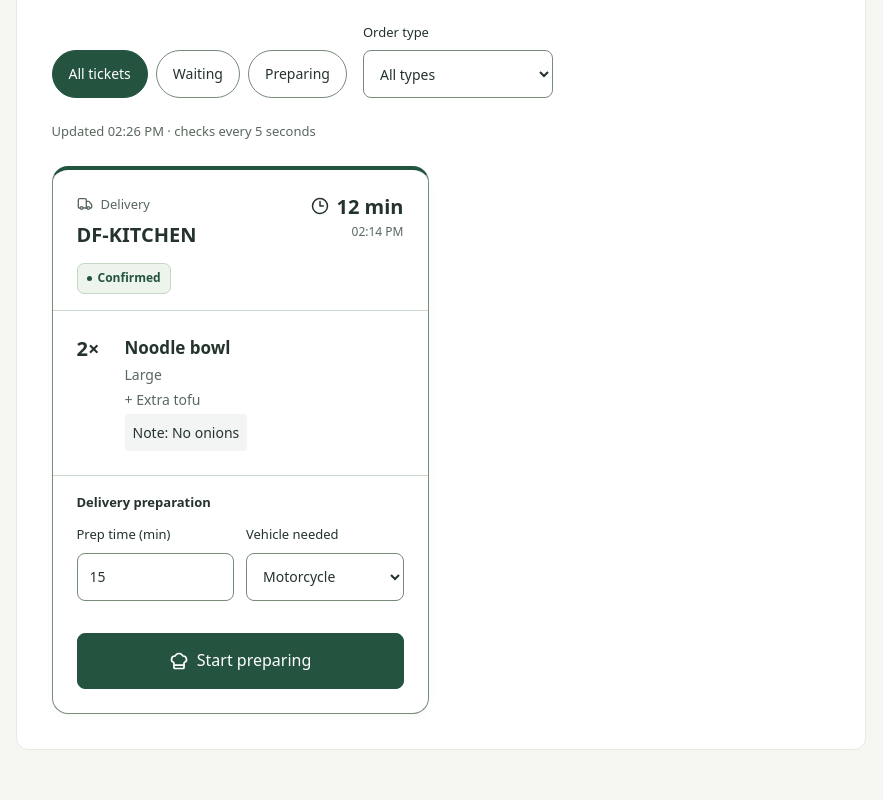
Test: keeps KDS preparation details and actions connected without exposing financial totals
(page scrolled)
Expected: the heading "DF-KITCHEN" is shown, [76,222,196,247]
Expected: the text "No onions" is shown, [172,423,239,442]
Replace the text in the number field named "Prep time for DF-KITCHEN" with "24" at {"x": 155, "y": 577}, box [76,553,234,601]
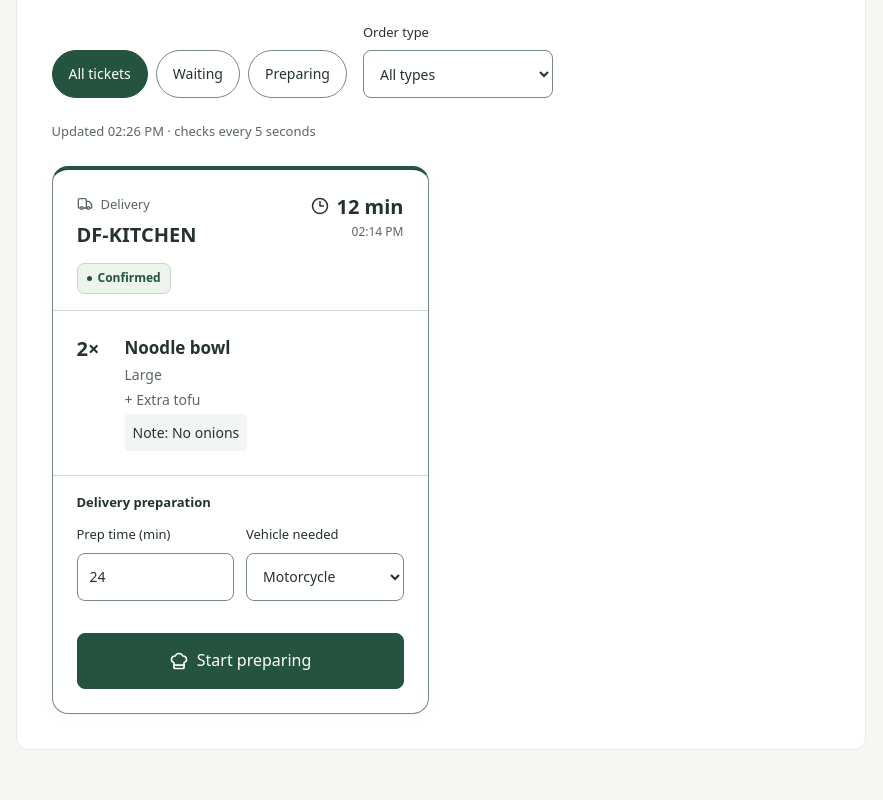
Select "Car" in the dropdown named "Vehicle needed for DF-KITCHEN" at {"x": 325, "y": 577}, box [246,553,404,601]
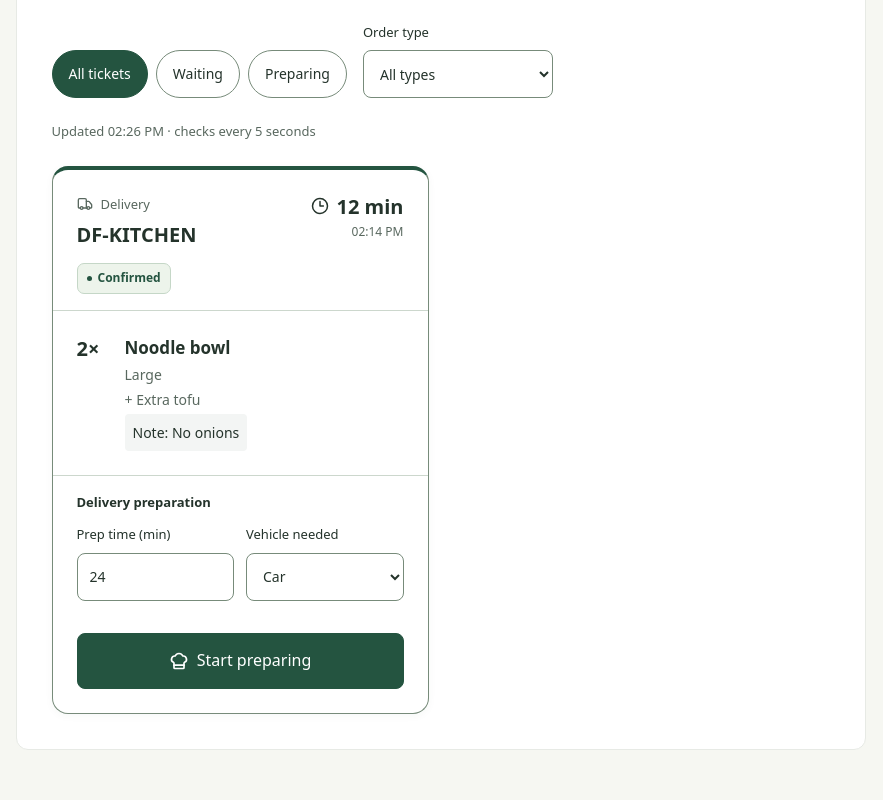
Click the button "Start preparing" at {"x": 240, "y": 661}, box [76,633,404,689]
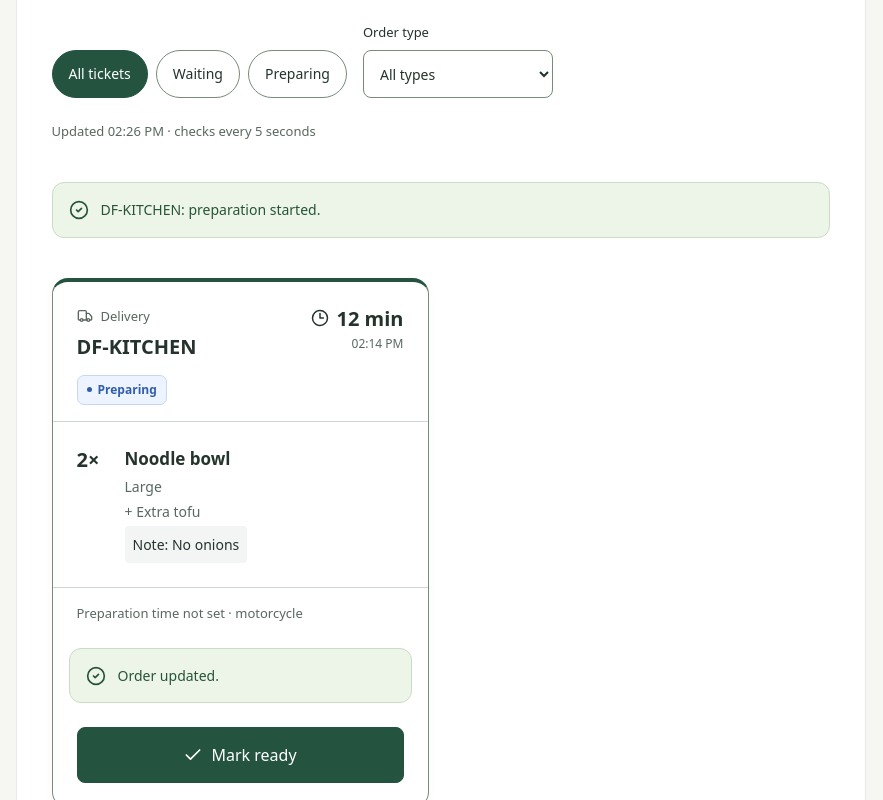
Result: the button "Mark ready" is shown at [76,727,404,783]
